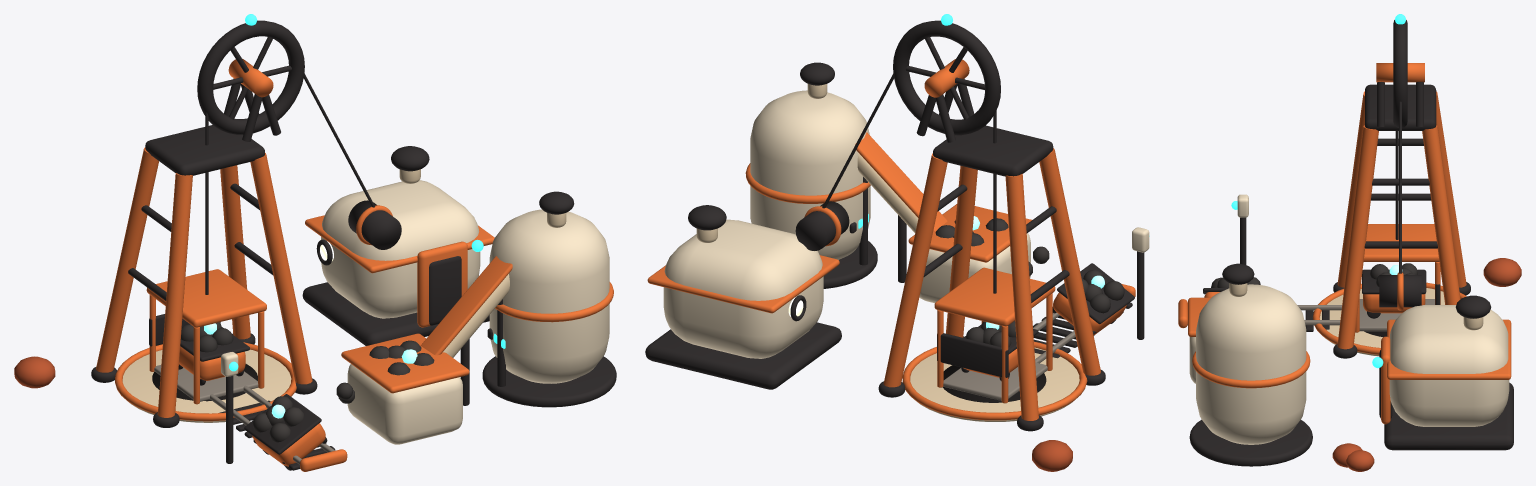
File: mine.glb
The picture shows the model from 3 angles, left to right: view 1: azimuth 30°, elevation 25°; view 2: azimuth 150°, elevation 25°; view 3: azimuth 270°, elevation 25°; orthographic projection. The views are drawn at different scales.
Visible parts, largest first — view 1: Cylinder.020, Cube.029, Cube.018, Torus.001, pipe, pipe.001, pipe.002, Cube, Cylinder.019, Cylinder, Cube.001, Cube.028 (+22 smaller); view 2: Cube.029, Cylinder.020, Cube.028, Torus.001, pipe.002, pipe.003, pipe, Cube, Cylinder, Cube.001, pipe.001, Torus (+22 smaller); view 3: Cylinder.020, Cube.029, Cube.028, pipe.001, Cylinder.019, pipe.003, Cube.001, Cube, Torus.001, Cube.030, pipe.002, Cylinder.026 (+20 smaller).
Part boxes in pixels (bbox=[...]): Cylinder.020: bbox=[489, 209, 609, 383]; Cube.029: bbox=[321, 180, 480, 318]; Cube.018: bbox=[347, 364, 462, 444]; Torus.001: bbox=[197, 20, 304, 134]; pipe: bbox=[157, 173, 192, 417]; pipe.001: bbox=[250, 153, 312, 384]; pipe.002: bbox=[96, 147, 158, 372]; Cube: bbox=[145, 125, 264, 175]; Cylinder.019: bbox=[482, 356, 616, 407]; Cylinder: bbox=[122, 349, 291, 422]; Cube.001: bbox=[146, 269, 266, 327]; Cube.028: bbox=[302, 282, 489, 345]; Cube.029: bbox=[663, 219, 823, 358]; Cylinder.020: bbox=[750, 90, 870, 259]; Cube.028: bbox=[645, 322, 841, 389]; Torus.001: bbox=[893, 20, 1000, 135]; pipe.002: bbox=[1005, 173, 1038, 420]; pipe.003: bbox=[883, 153, 947, 387]; pipe: bbox=[1039, 148, 1100, 375]; Cube: bbox=[933, 125, 1053, 176]; Cylinder: bbox=[910, 347, 1079, 421]; Cube.001: bbox=[934, 267, 1055, 326]; pipe.001: bbox=[946, 165, 977, 337]; Torus: bbox=[902, 341, 1087, 420]; Cylinder.020: bbox=[1196, 284, 1306, 444]; Cube.029: bbox=[1389, 305, 1509, 426]; Cube.028: bbox=[1384, 382, 1513, 450]; pipe.001: bbox=[1337, 125, 1378, 349]; Cylinder.019: bbox=[1189, 419, 1312, 466]; pipe.003: bbox=[1422, 125, 1460, 304]; Cube.001: bbox=[1363, 224, 1439, 261]; Cube: bbox=[1365, 84, 1436, 130]; Torus.001: bbox=[1393, 20, 1407, 127]; Cube.030: bbox=[1387, 319, 1511, 379]; pipe.002: bbox=[1436, 91, 1466, 287]; Cylinder.026: bbox=[1379, 275, 1421, 307].
Bounding box in the file's own units: 2.96 × 2.33 × 2.12.
